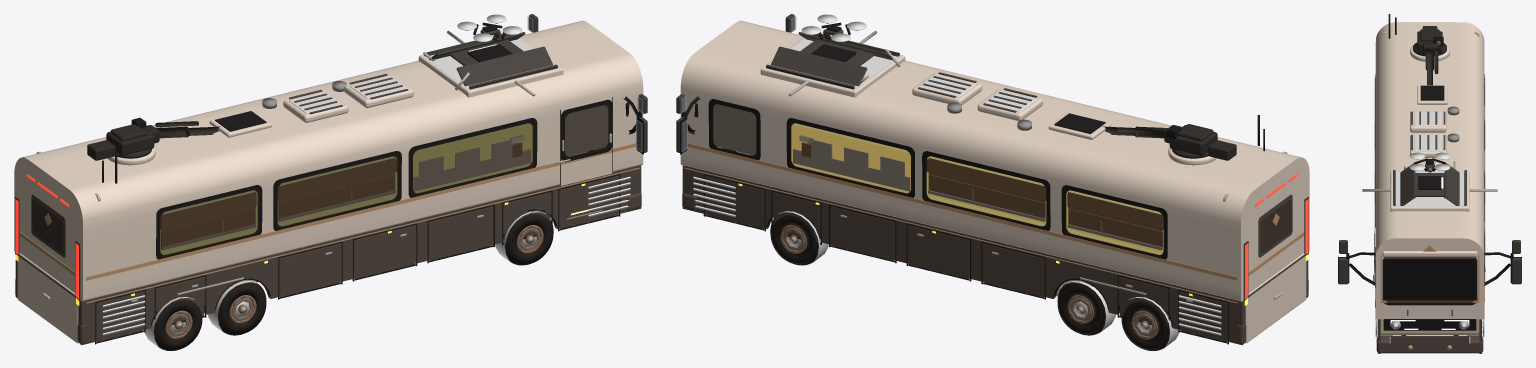
3 renders of one model, left to right at view 1: azimuth 30°, elevation 25°; view 2: azimuth 150°, elevation 25°; view 3: azimuth 270°, elevation 25°, orthographic. The views are drawn at different scales.
Parts seen in each view (by area): view 1: SHELL__BodyShell, BODY__skirt_graphite, SHELL__Skirt_-1, SHELL__glass_-1_0, SHELL__glass_-1_1, SHELL__RearCap, SHELL__glass_-1_2, CHAS__tire, BODY__body_pearl, BODY__band_champagne, ROOF__body_pearl, XD__oak_flat (+22 smaller); view 2: SHELL__BodyShell, BODY__skirt_graphite, SHELL__Skirt_1, SHELL__glass_1_1, SHELL__glass_1_0, SHELL__RearCap, SHELL__glass_1_2, CHAS__tire, BODY__band_champagne, XD__walnut_honey, XD__oak_flat, ROOF__roofkit (+22 smaller); view 3: SHELL__BodyShell, SHELL__WindGasket, SHELL__WindGlass, SHELL__FrontCap, BODY__body_pearl, ROOF__body_pearl, ROOF__roofkit, BODY__black_plastic, BODY__skirt_graphite, ROOF__black_plastic, ROOF__gunmetal, PlatFloor (+12 smaller).
Boxes of the visible parts, <box> form: SHELL__BodyShell: <box>23,20,643,301</box>; BODY__skirt_graphite: <box>15,97,641,343</box>; SHELL__Skirt_-1: <box>80,165,641,345</box>; SHELL__glass_-1_0: <box>412,122,534,195</box>; SHELL__glass_-1_1: <box>276,155,398,228</box>; SHELL__RearCap: <box>14,157,82,301</box>; SHELL__glass_-1_2: <box>159,189,259,257</box>; CHAS__tire: <box>154,214,553,350</box>; BODY__body_pearl: <box>17,64,637,343</box>; BODY__band_champagne: <box>19,143,640,303</box>; ROOF__body_pearl: <box>107,38,563,165</box>; XD__oak_flat: <box>161,158,394,230</box>; SHELL__BodyShell: <box>680,20,1300,301</box>; BODY__skirt_graphite: <box>682,176,1308,343</box>; SHELL__Skirt_1: <box>682,165,1243,345</box>; SHELL__glass_1_1: <box>925,155,1046,228</box>; SHELL__glass_1_0: <box>789,122,911,195</box>; SHELL__RearCap: <box>1241,157,1309,301</box>; SHELL__glass_1_2: <box>1064,189,1163,256</box>; CHAS__tire: <box>770,215,1169,350</box>; BODY__band_champagne: <box>683,143,1304,303</box>; XD__walnut_honey: <box>801,142,1163,246</box>; XD__oak_flat: <box>928,158,1162,231</box>; ROOF__roofkit: <box>766,23,899,89</box>; SHELL__BodyShell: <box>1375,22,1484,258</box>; SHELL__WindGasket: <box>1382,257,1477,305</box>; SHELL__WindGlass: <box>1385,259,1474,303</box>; SHELL__FrontCap: <box>1375,238,1484,319</box>; BODY__body_pearl: <box>1375,227,1477,313</box>; ROOF__body_pearl: <box>1390,46,1469,211</box>; ROOF__roofkit: <box>1393,161,1466,205</box>; BODY__black_plastic: <box>1338,252,1521,330</box>; BODY__skirt_graphite: <box>1375,227,1483,353</box>; ROOF__black_plastic: <box>1388,14,1445,189</box>; ROOF__gunmetal: <box>1413,26,1446,85</box>; PlatFloor: <box>1395,172,1464,206</box>.
Bounding box in the file's own units: 12.37 × 4.44 × 4.32.
